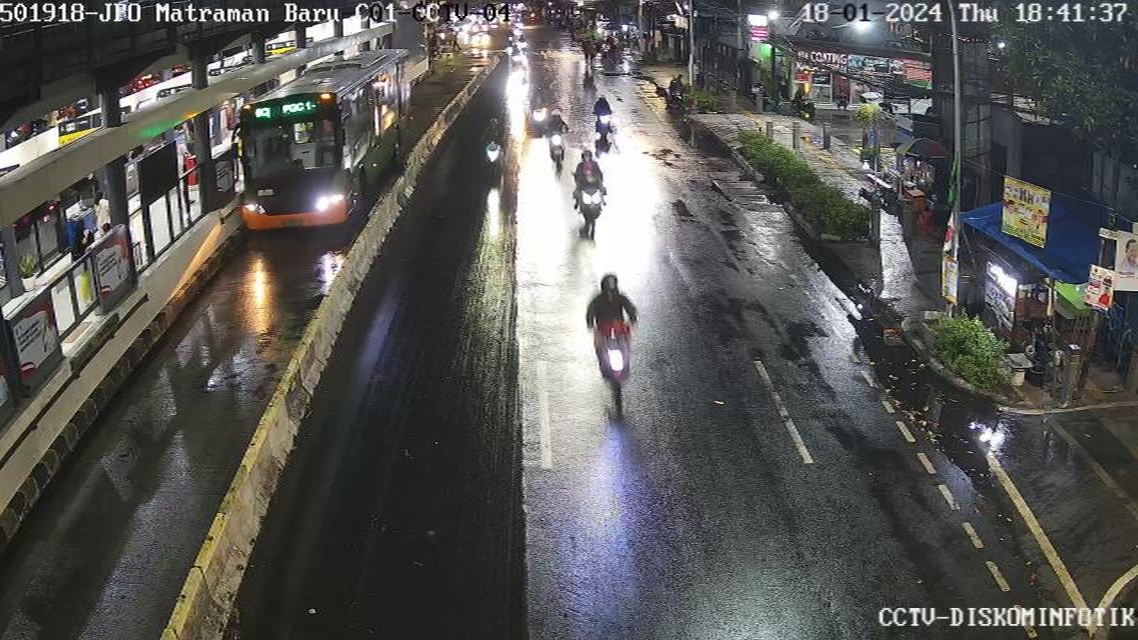Gerobak: (969, 257, 1031, 364)
